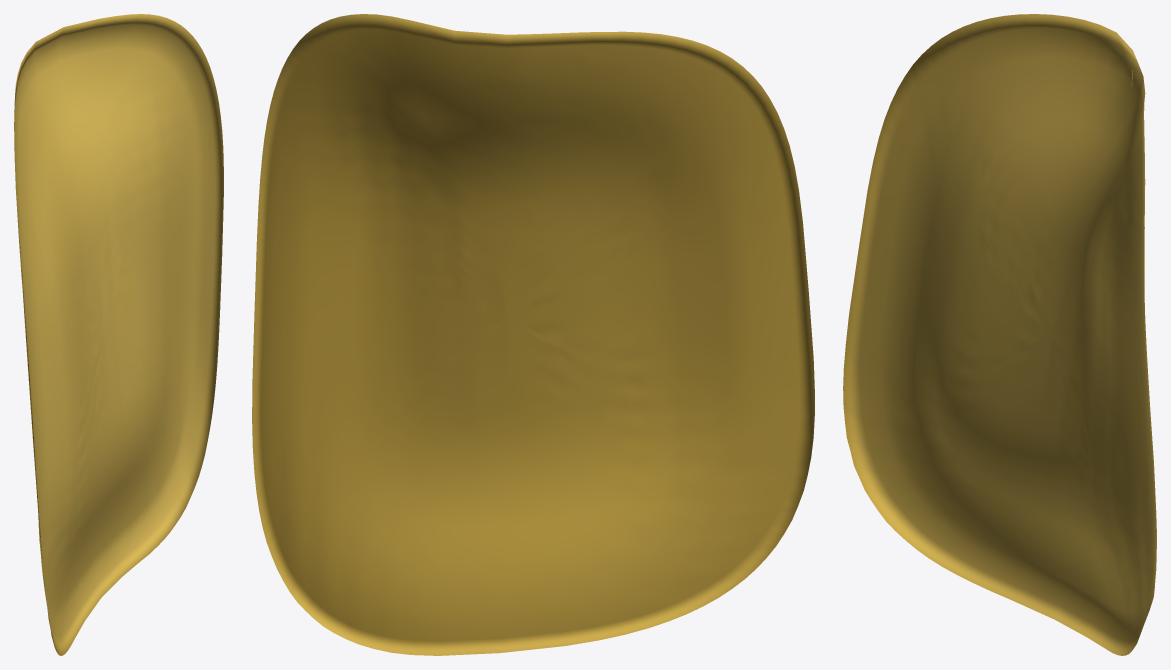
File: PAIR-CUBOID-PAD_LEFT_addon.glb
The picture shows the model from 3 angles, left to right: view 1: azimuth 30°, elevation 25°; view 2: azimuth 150°, elevation 25°; view 3: azimuth 270°, elevation 25°; orthographic projection. The views are drawn at different scales.
Visible parts, largest first — view 1: cuboid-pad_149042_LEFT.stl; view 2: cuboid-pad_149042_LEFT.stl; view 3: cuboid-pad_149042_LEFT.stl.
Boxes of the visible parts, x1,y1,x2,y2 form: cuboid-pad_149042_LEFT.stl: (14,14,223,655); cuboid-pad_149042_LEFT.stl: (252,14,814,655); cuboid-pad_149042_LEFT.stl: (843,14,1156,655).
Bounding box in the file's own units: 22.9 × 36.64 × 18.31.
